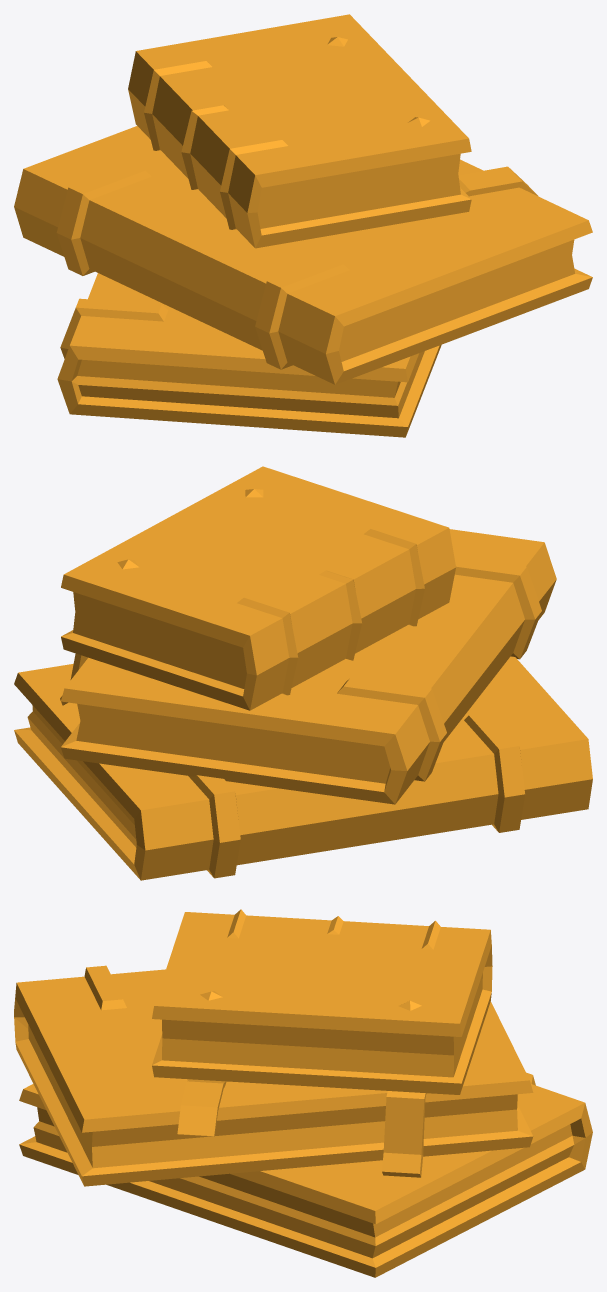
Rendered from SM_Book_Pile_B.fbx.
The picture shows the model from 3 angles, top to bottom: view 1: azimuth 30°, elevation 25°; view 2: azimuth 150°, elevation 25°; view 3: azimuth 270°, elevation 25°; orthographic projection. The views are drawn at different scales.
Visible parts, largest first — view 1: book-pile-b; view 2: book-pile-b; view 3: book-pile-b.
Boxes of the visible parts, x1,y1,x2,y2 form: book-pile-b: (14,14,592,437); book-pile-b: (14,466,592,880); book-pile-b: (14,909,592,1277).
Bounding box in the file's own units: 0.6463 × 0.2858 × 0.6703.
